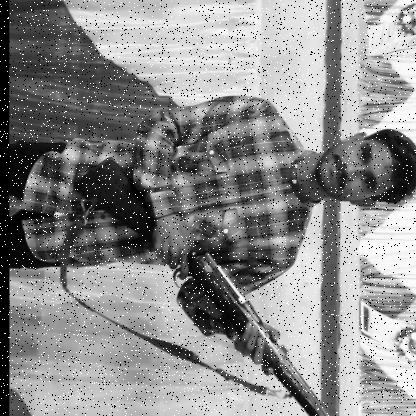rifle: (69, 155, 329, 416)
